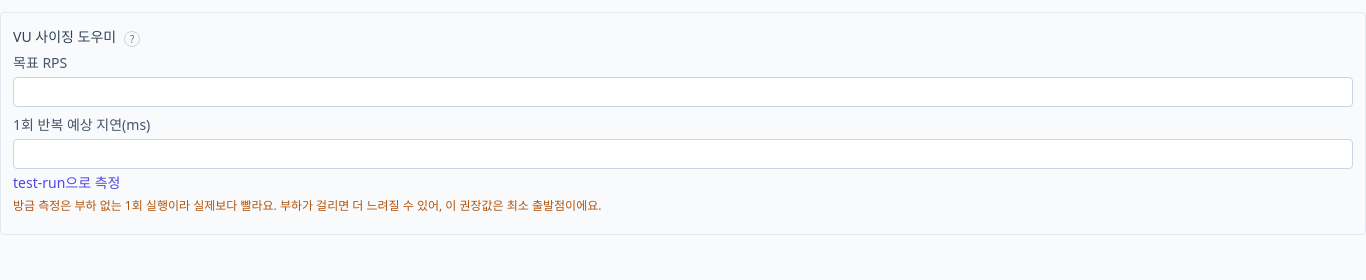
Scenario: VuSizingHelper › 앵커 없음: 추정 지연 입력으로 권장 + 한계 문구
In the number field labelled "목표 RPS": (683, 92) [13,77,1353,107], type "400"
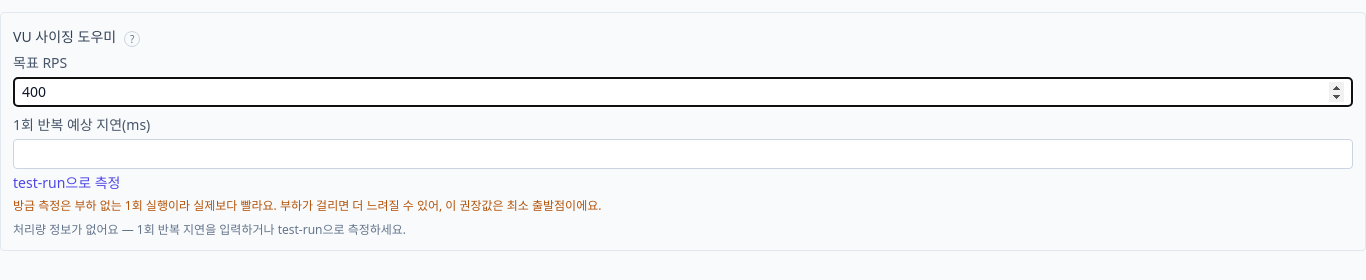
In the number field labelled "1회 반복 예상 지연(ms)": (683, 154) [13,139,1353,169], type "250"
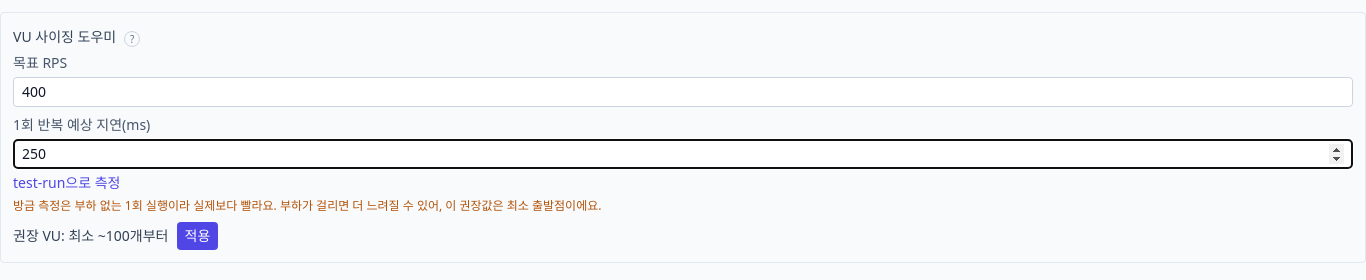
Expected: the text "부하 없는 1회 실행" is shown, [13,197,601,214]
Expected: the text "권장 VU: 최소 ~100개부터" is shown, [13,226,168,246]
